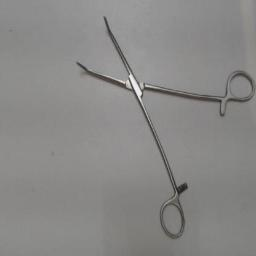Lahey Forceps: (69, 12, 255, 242)
